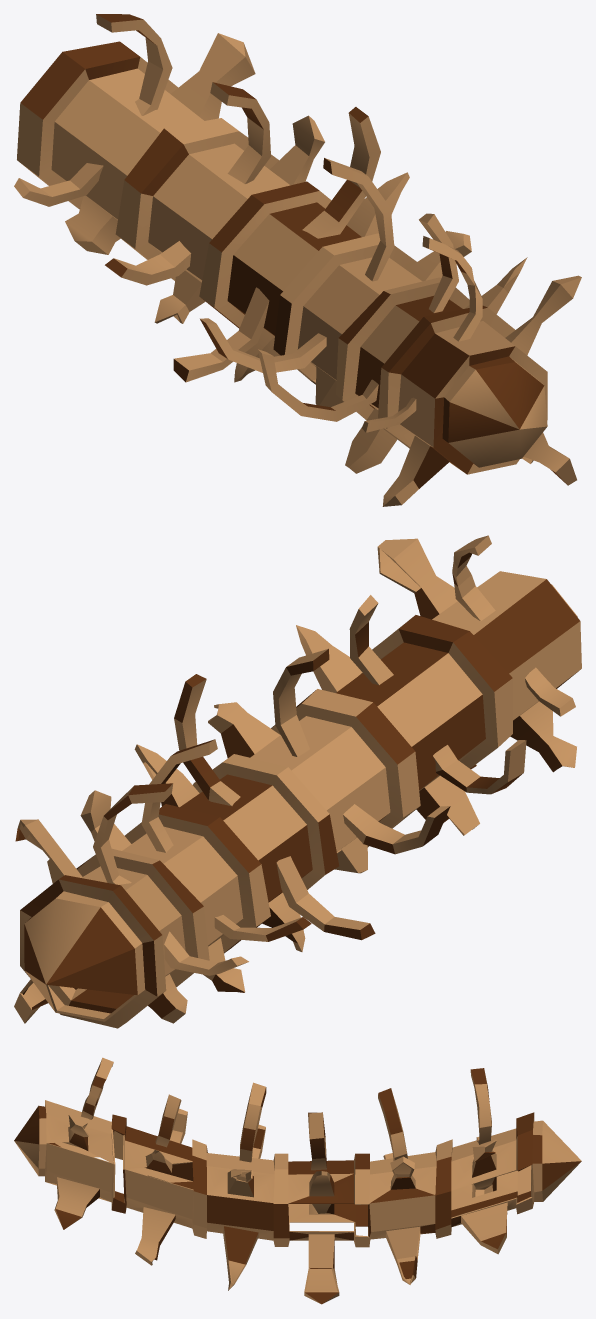
Rendered from bone_1_kirik.fbx.
3 renders of one model, top to bottom at view 1: azimuth 30°, elevation 25°; view 2: azimuth 150°, elevation 25°; view 3: azimuth 270°, elevation 25°, orthographic. The views are drawn at different scales.
Parts seen in each view (by area): view 1: bone_dirty.solidified; view 2: bone_dirty.solidified; view 3: bone_dirty.solidified.
Part boxes in pixels (<box>): bone_dirty.solidified: <box>14,14,581,506</box>; bone_dirty.solidified: <box>14,535,581,1028</box>; bone_dirty.solidified: <box>14,1057,581,1304</box>.
Size of the model in its own units: 0.5845 by 1.68 by 0.6335.
